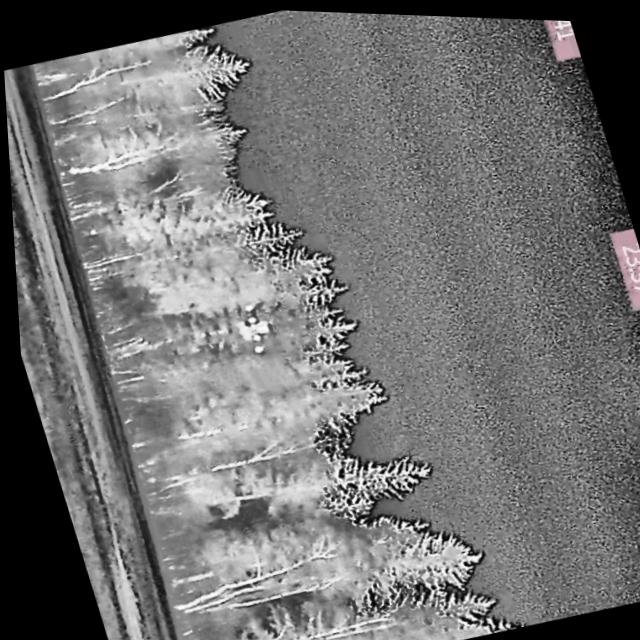drone: (224, 298, 276, 357)
